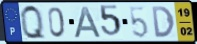0: (47, 6, 66, 39)
5: (98, 4, 124, 40), (128, 5, 150, 39)
A: (73, 6, 104, 39)
D: (151, 5, 177, 39)
Q: (19, 3, 48, 41)
